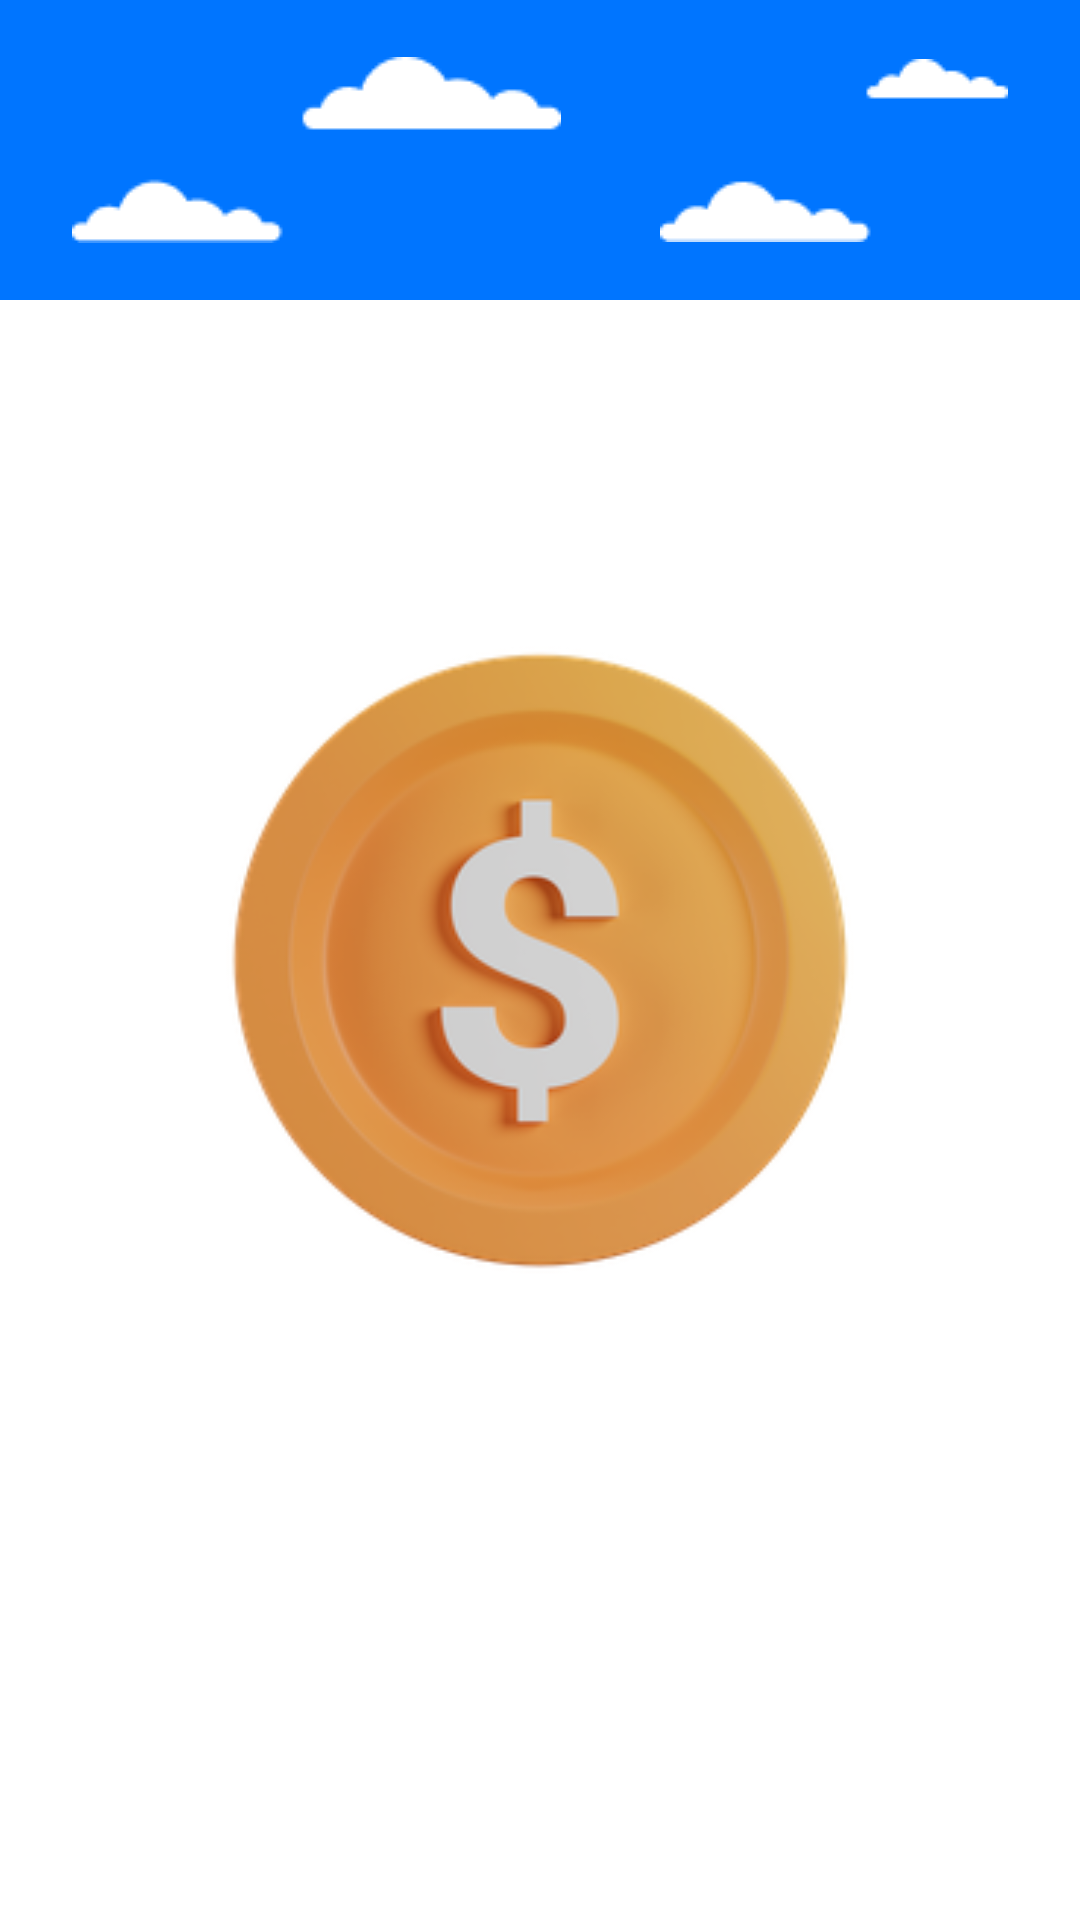

Where to tap for icons on this 1080w x 1920h app screen, as (x,y):
cloud right: (834,150)
